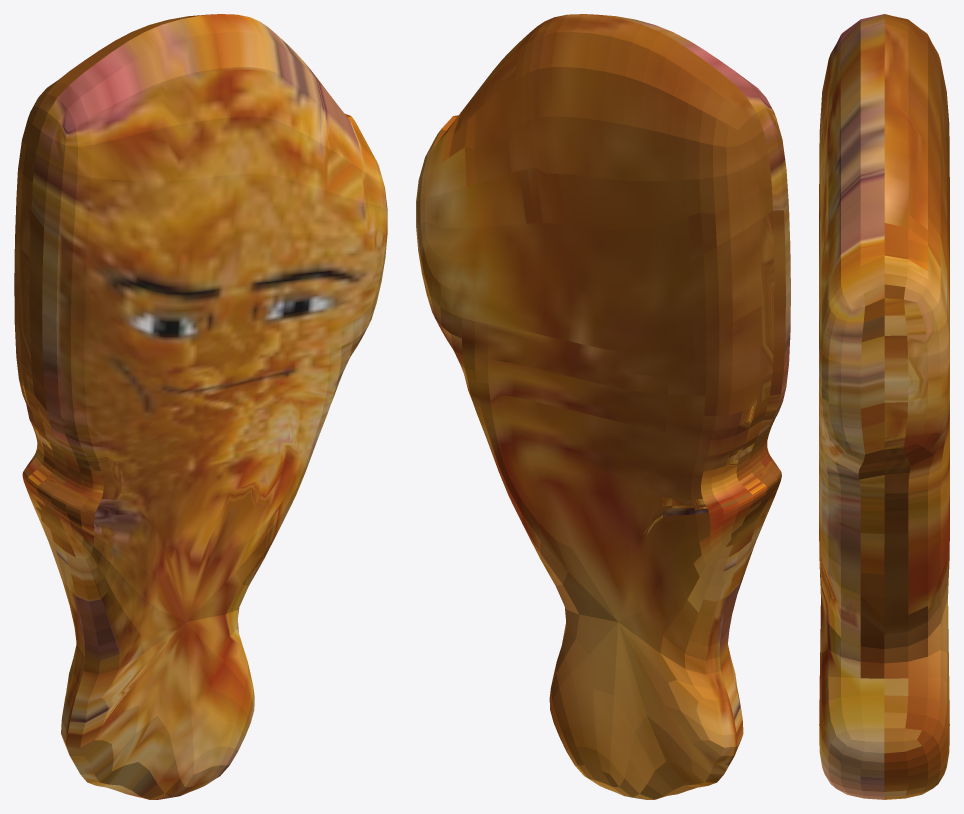
Rendered from Hugget.fbx.
3 views of the same model, side by side, from view 1: azimuth 30°, elevation 25°; view 2: azimuth 150°, elevation 25°; view 3: azimuth 270°, elevation 25° (orthographic).
Parts seen in each view (by area): view 1: Plane; view 2: Plane; view 3: Plane.
Boxes of the visible parts, x1=… form: Plane: x1=14, y1=14, x2=387, y2=799; Plane: x1=416, y1=14, x2=790, y2=799; Plane: x1=819, y1=14, x2=949, y2=799.
Size of the model in its own units: 244 by 528 by 80.93.
